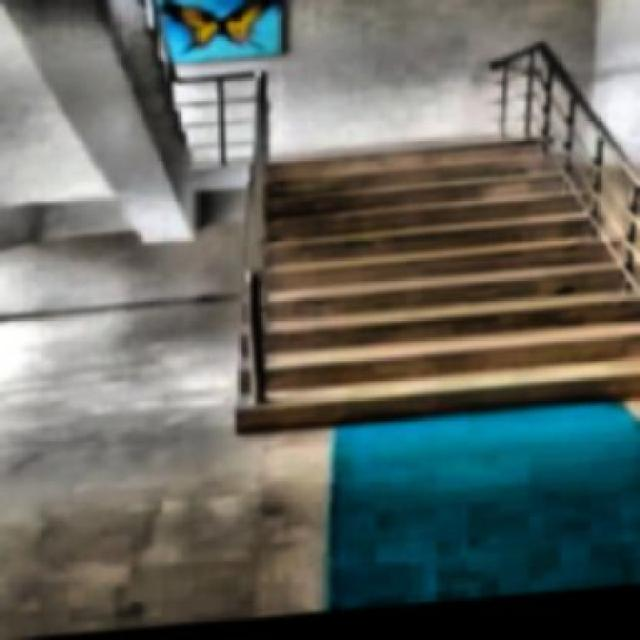stair: (230, 134, 638, 440)
